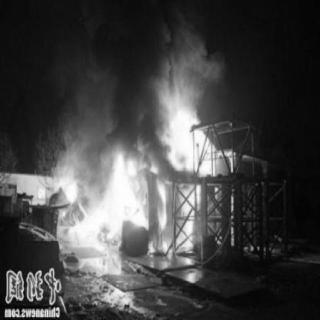Fire: (61, 111, 237, 253)
Smoke: (8, 7, 224, 159)
